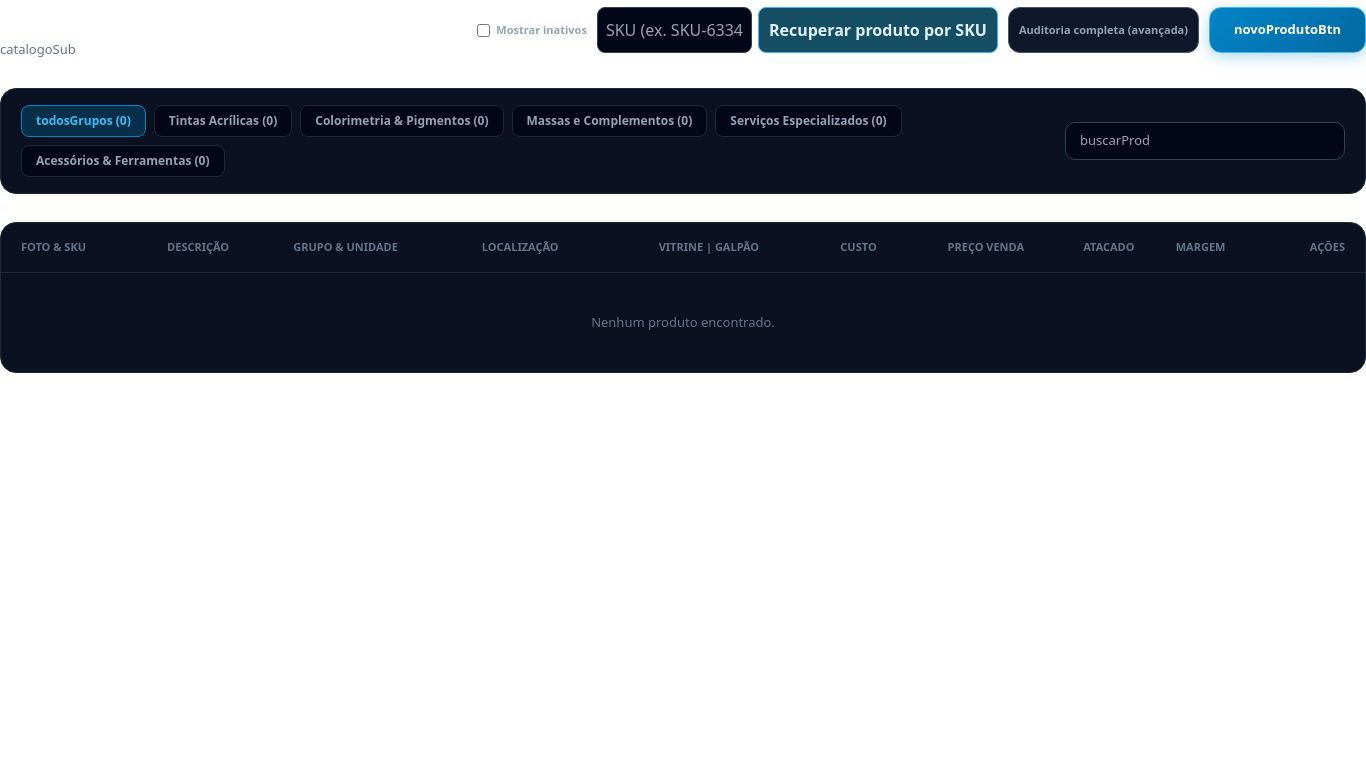
Scenario: SKU reservado sem ficha passa à conferência do ID original sem auditoria global nem escrita
Type "SKU-1030" into the field named "SKU original" at (674, 30), box [597, 7, 752, 53]
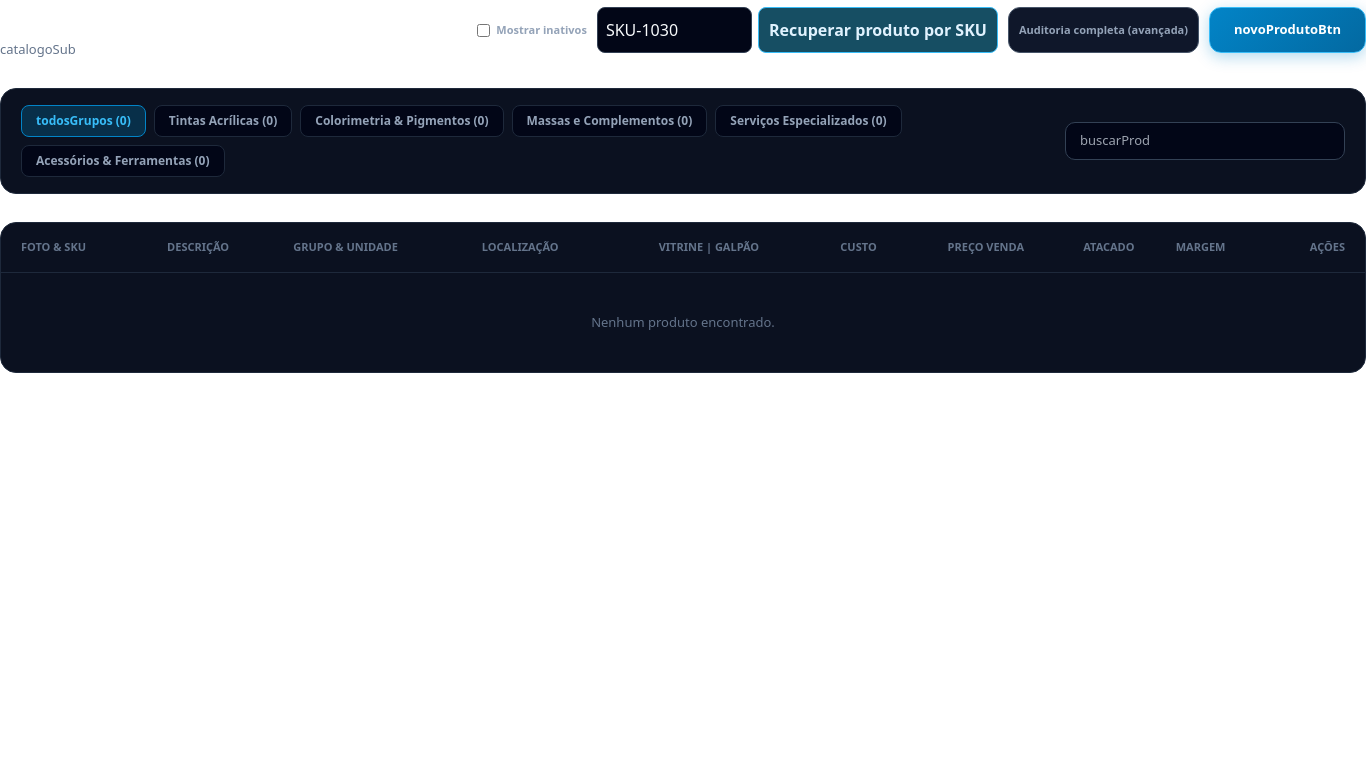
Click the button "Recuperar produto por SKU" at (878, 30), box [758, 7, 998, 53]
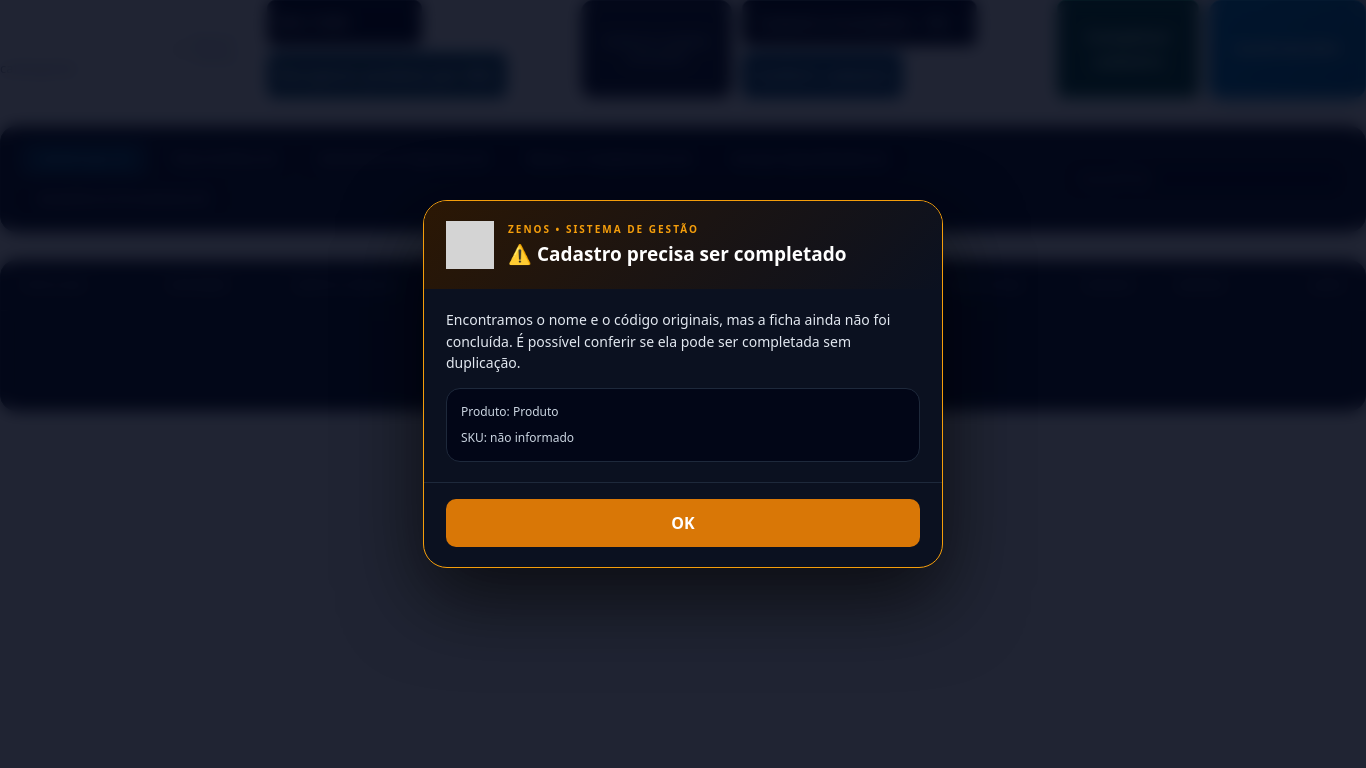
Expected: the text "⚠️ Cadastro precisa ser completado" is shown, [508, 241, 847, 267]
